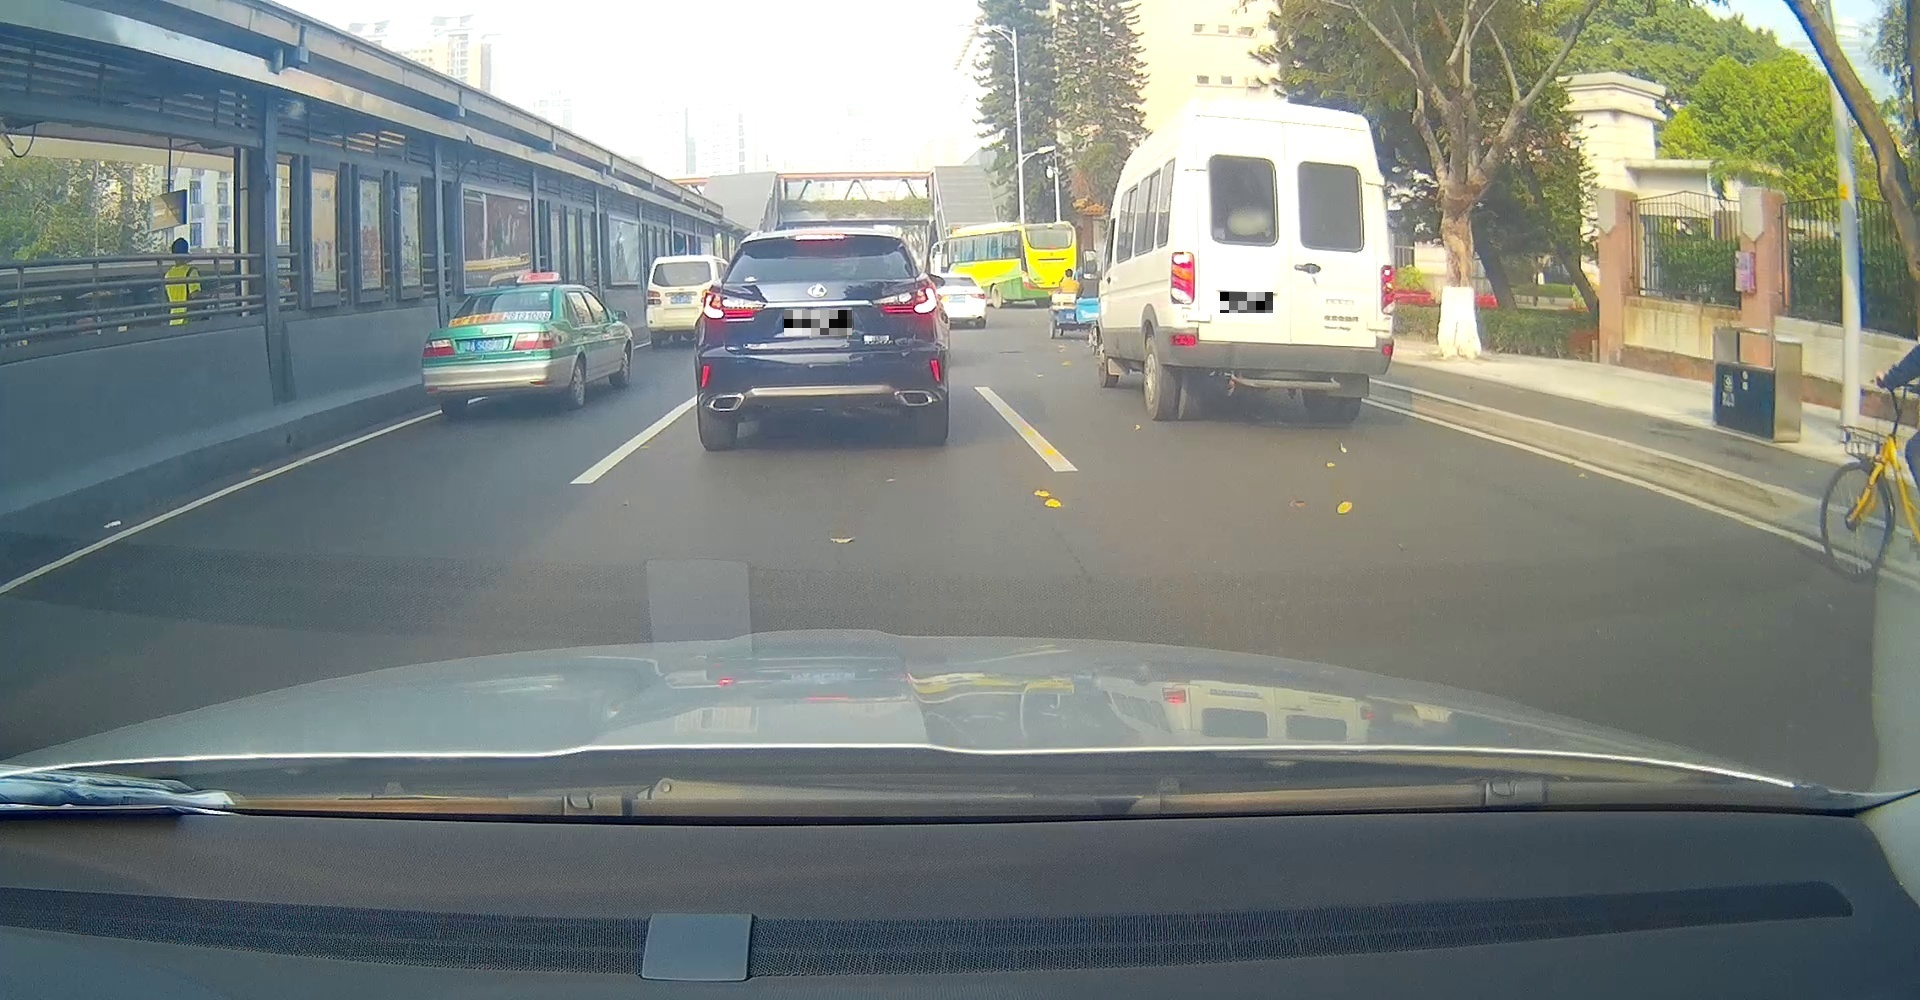L_light: (702, 291, 764, 321), (1171, 251, 1195, 305), (423, 338, 455, 357)
R_light: (872, 284, 938, 315), (512, 331, 559, 352), (1382, 264, 1396, 315)
T_light: (795, 234, 844, 240), (1275, 115, 1305, 122), (503, 291, 523, 296)
day-brake: (693, 228, 950, 452)
day-no: (1170, 96, 1396, 420), (422, 283, 564, 418)
plate_1: (783, 310, 852, 335)
plate_2: (1220, 292, 1272, 313)
